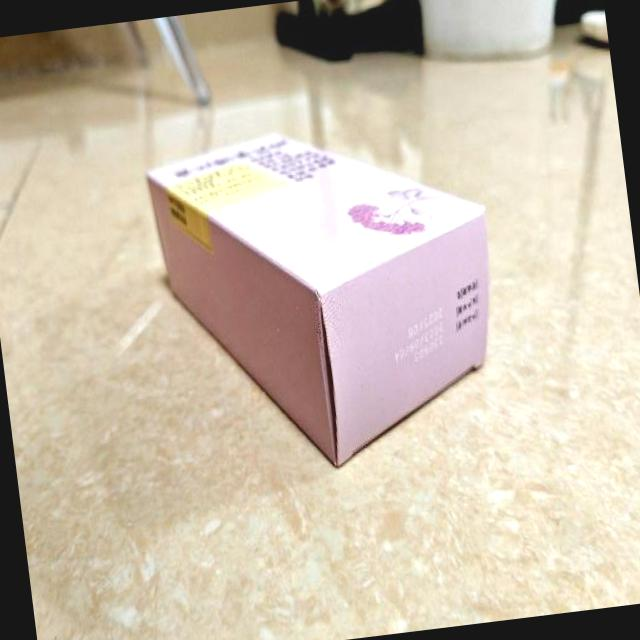box: (143, 110, 514, 486)
